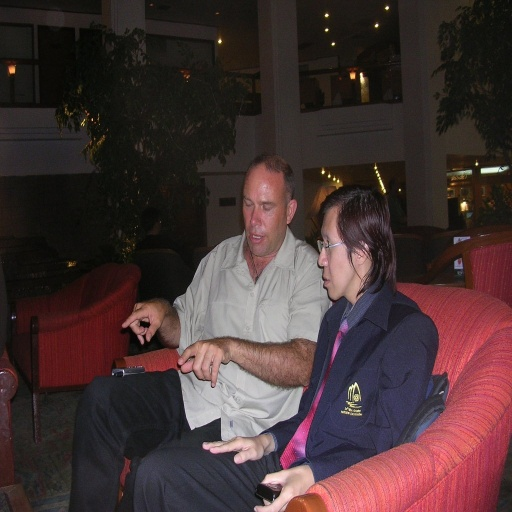hand: (178, 342, 236, 393), (254, 467, 313, 511), (121, 298, 170, 344), (201, 433, 265, 465)
